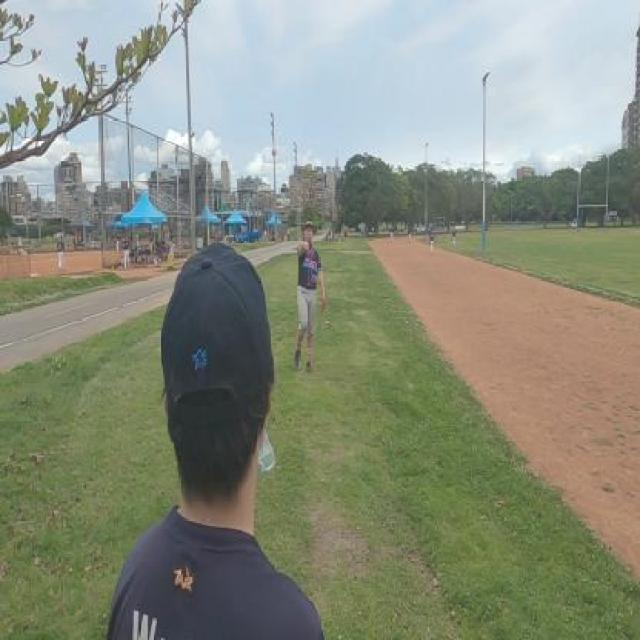sports ball: (270, 149, 278, 157)
